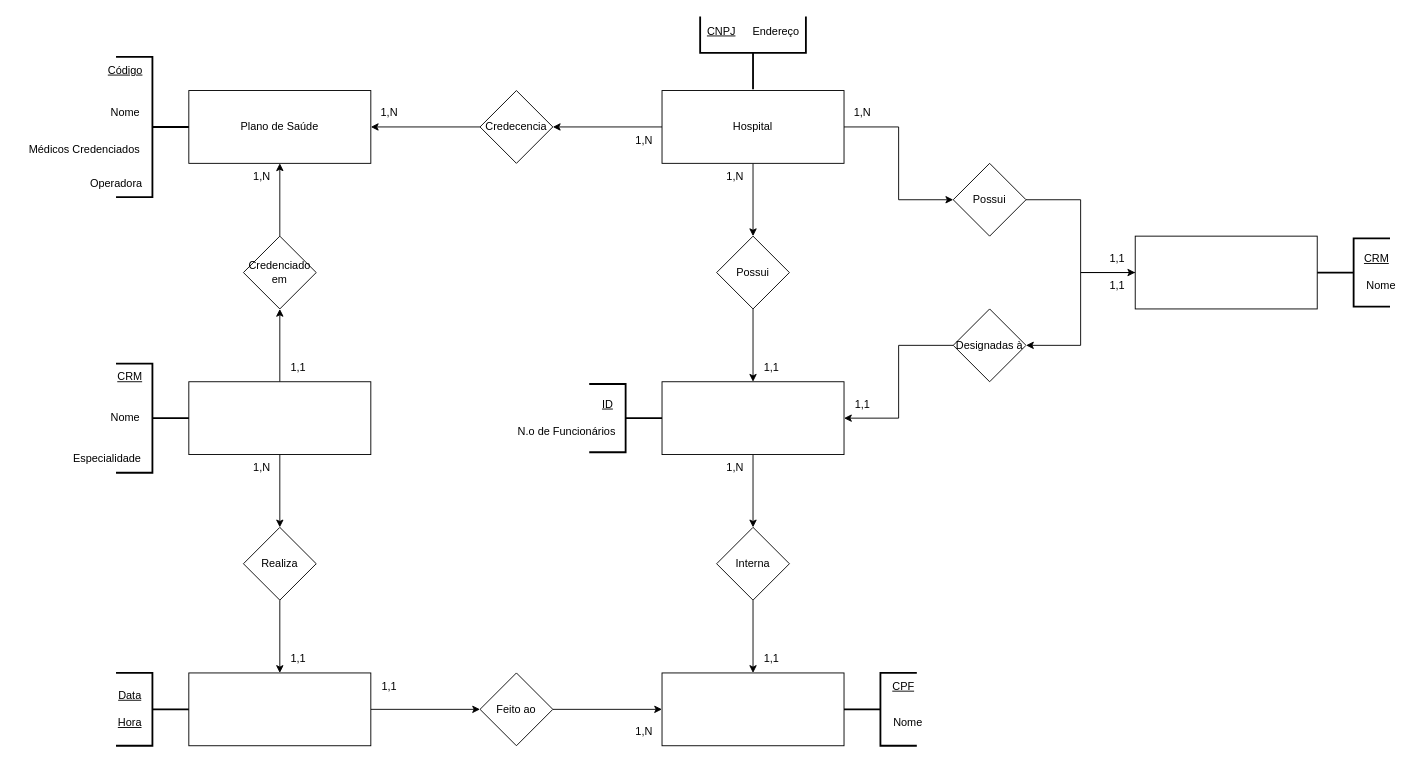
The diagram is 1423 pixels wide and 763 high, and some of its shapes have lost their labels. The centre of each missing label's shape, as x and y in pixels:
"Ala" belongs at pixel 752 418.
"Atendimento" belongs at pixel 279 709.
"Enfermeira" belongs at pixel 1225 272.
"Médico" belongs at pixel 279 418.
"Paciente" belongs at pixel 752 709.
